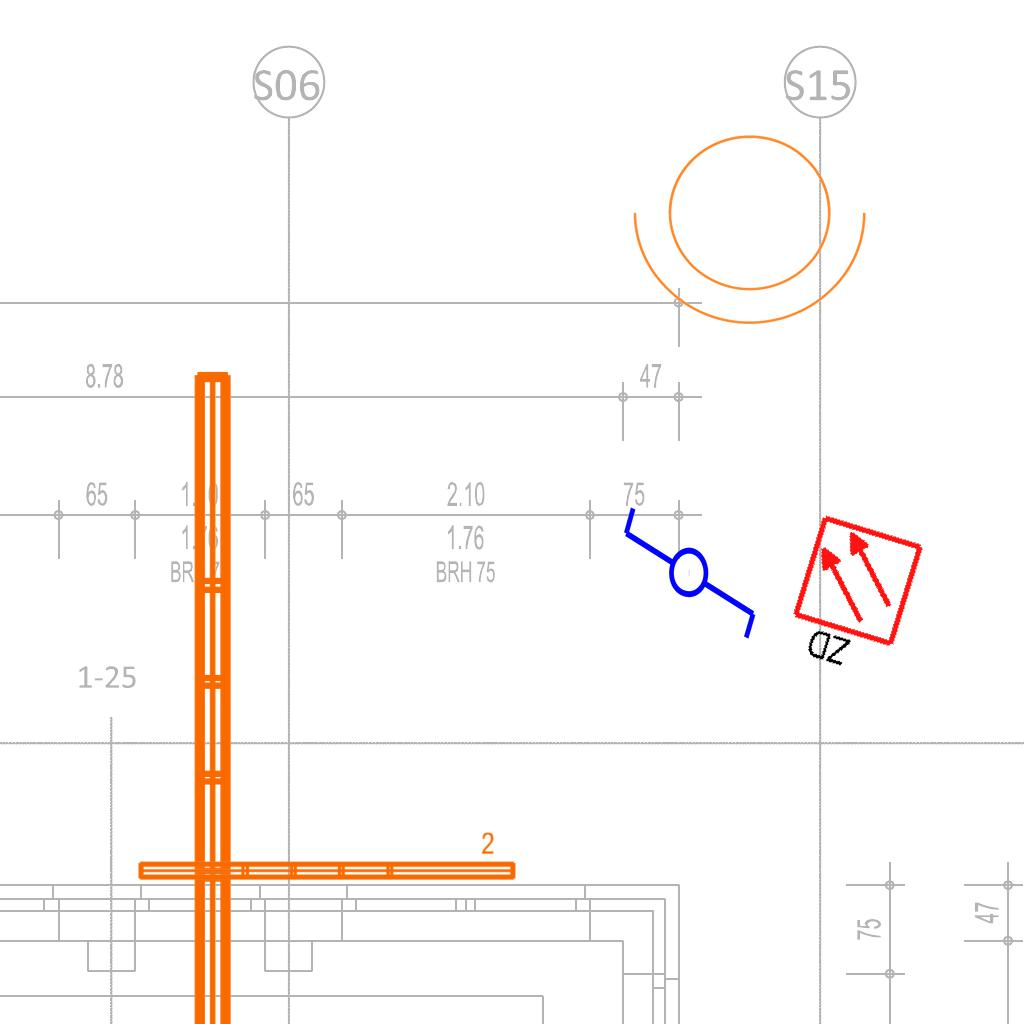Ambulanz_Pendelleuchte_LED: (182, 361, 294, 1024), (133, 830, 520, 886)
Scheinwerfer_fuer_Alarmbeleuchtung: (624, 110, 888, 335)
Wechselschalter: (619, 486, 763, 643)
ZD_Melder_in_Zwischendecke_mit_Revisionsoeffnung_mind_40_x_40_cm: (777, 511, 931, 688)
